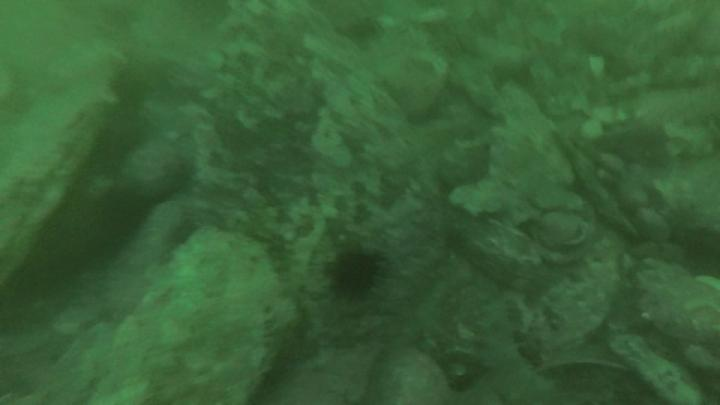echinus: (95, 185, 149, 245), (99, 120, 143, 167), (330, 254, 377, 296), (111, 70, 152, 107)
